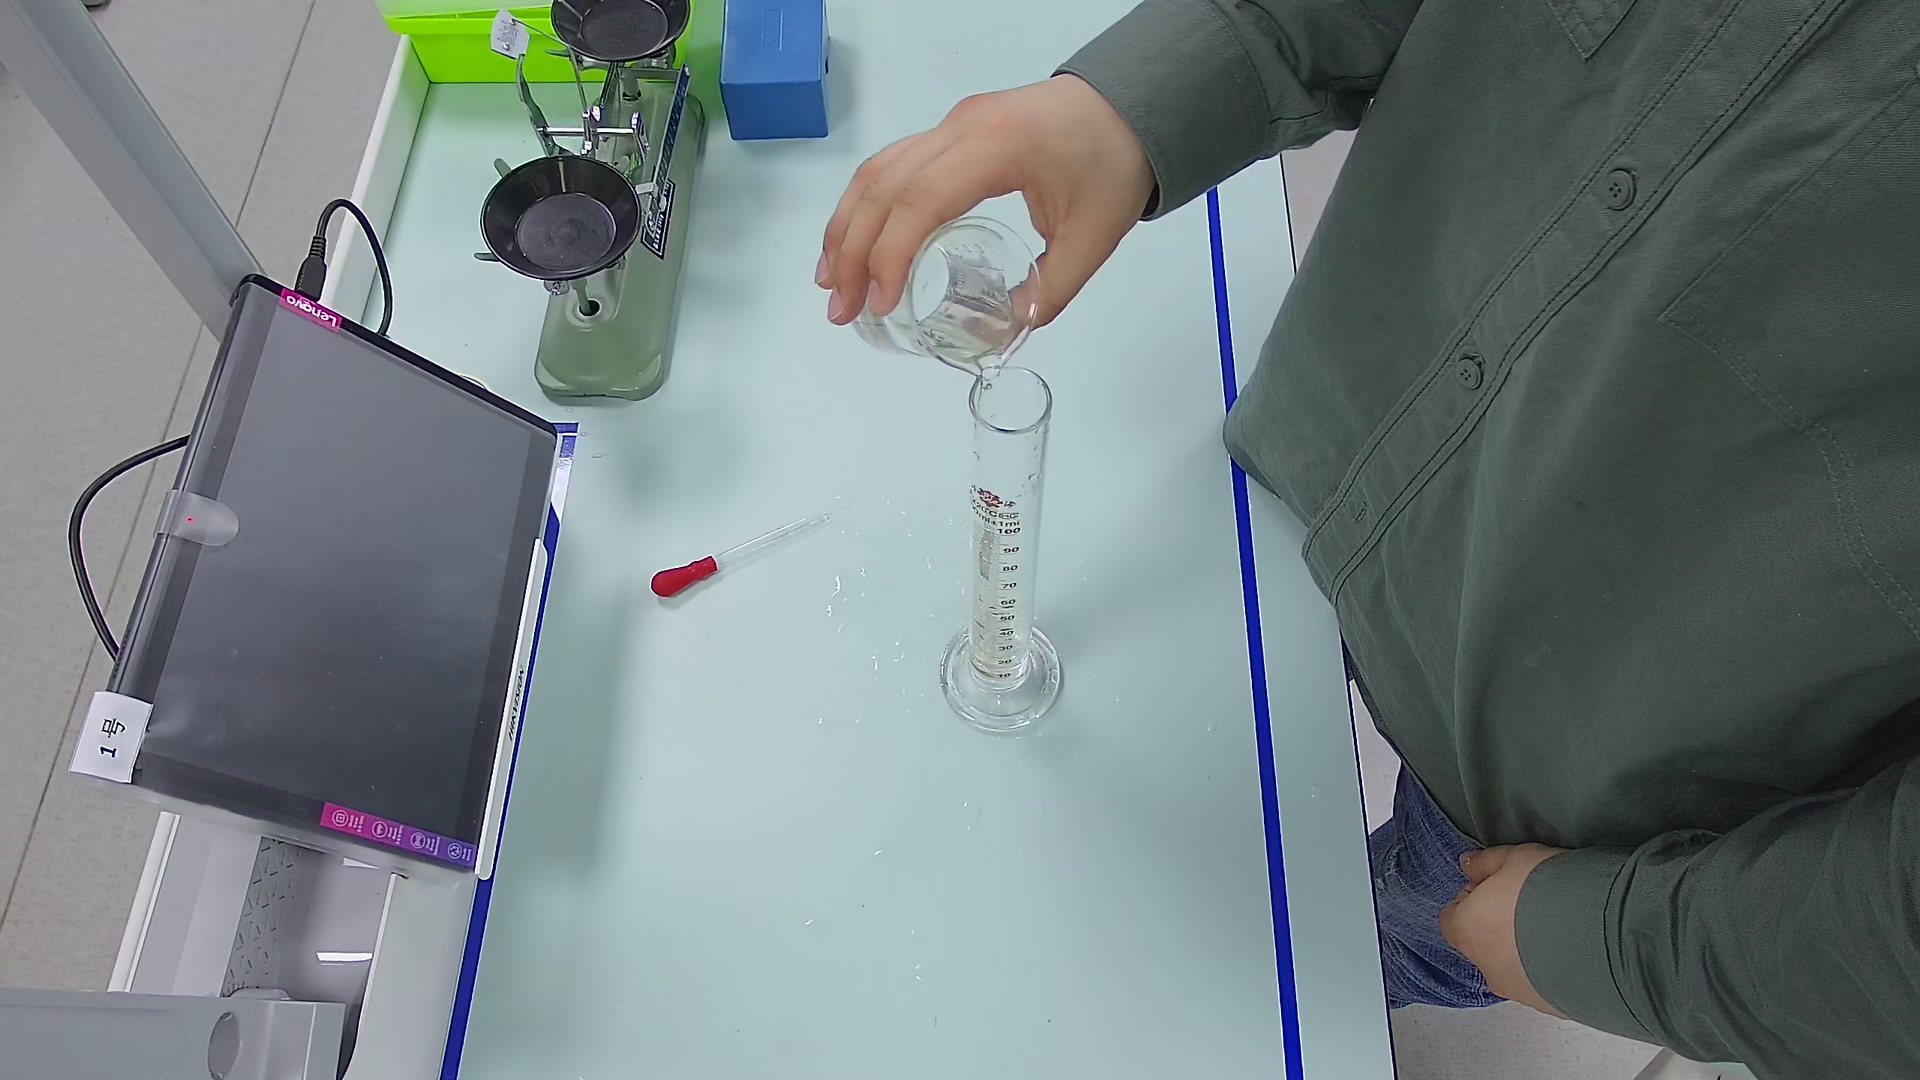ao: (969, 624, 1030, 662)
bei: (843, 207, 1047, 381)
diguan: (653, 506, 822, 611)
diguantou: (651, 550, 717, 597)
hand: (816, 92, 1138, 331), (1443, 843, 1561, 1010)
liangdi: (939, 617, 1069, 736)
liangtong: (949, 360, 1065, 752)
tuo: (476, 154, 638, 280), (534, 1, 717, 65)
